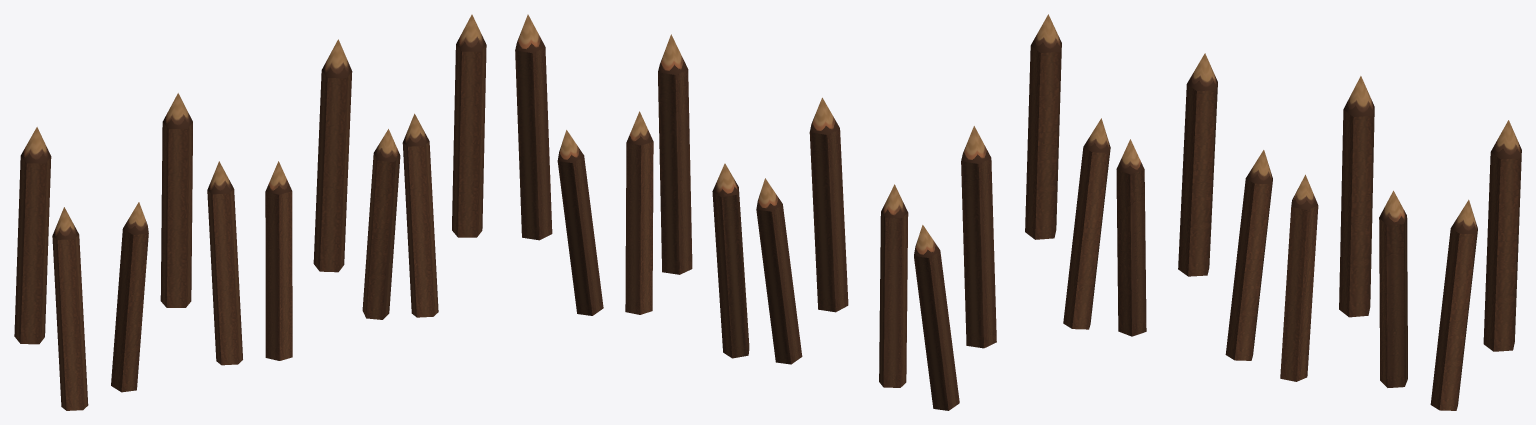
Rendered from lvl0_1x3.fbx.
3 renders of one model, left to right at view 1: azimuth 30°, elevation 25°; view 2: azimuth 150°, elevation 25°; view 3: azimuth 330°, elevation 25°, orthographic. The views are drawn at different scales.
Visible parts, largest first — view 1: polySurface456; view 2: polySurface456; view 3: polySurface456.
Boxes of the visible parts, left/top/right/bottom form: polySurface456: left=14, top=14, right=486, bottom=410; polySurface456: left=515, top=14, right=996, bottom=410; polySurface456: left=1025, top=14, right=1521, bottom=410.
Bounding box in the file's own units: 26.28 × 16.22 × 3.16.
